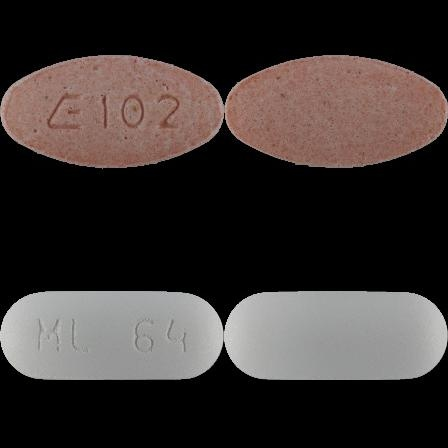10544-904: (0, 0, 224, 224)
